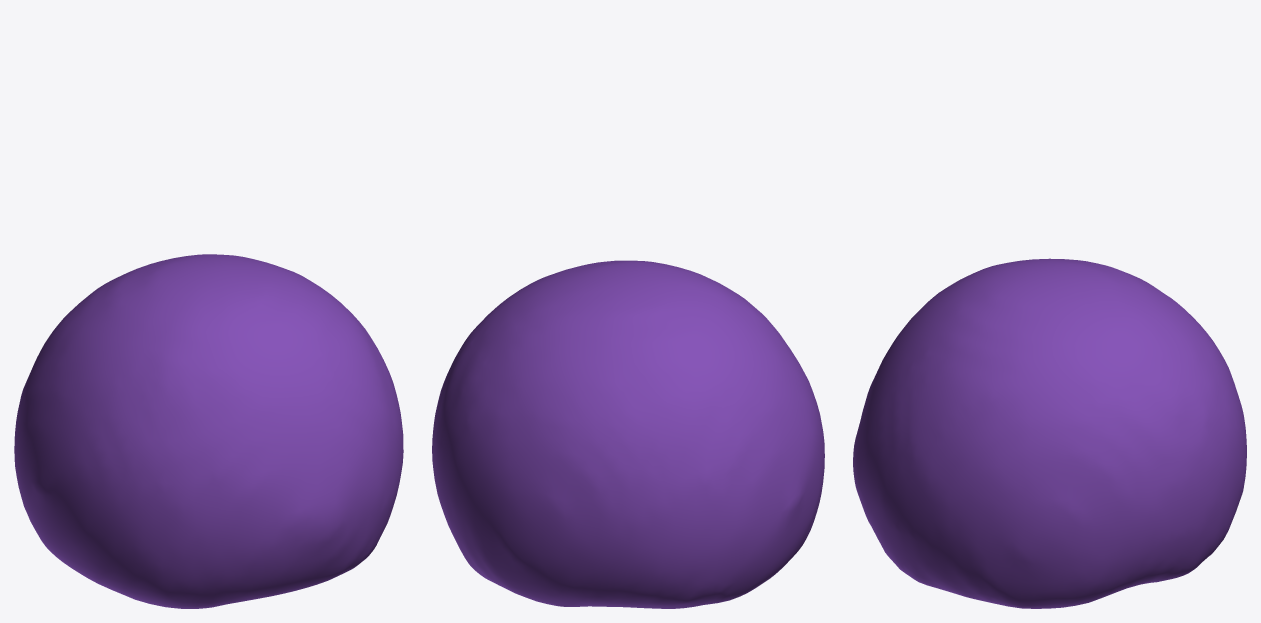
File: slime_0027.dae
3 renders of one model, left to right at view 1: azimuth 30°, elevation 25°; view 2: azimuth 150°, elevation 25°; view 3: azimuth 270°, elevation 25°, orthographic.
Parts seen in each view (by area): view 1: Slime; view 2: Slime; view 3: Slime.
Boxes of the visible parts, box(x1,y1,x2,y2) form: Slime: box(14, 254, 403, 608); Slime: box(432, 260, 824, 608); Slime: box(853, 258, 1246, 608).
Size of the model in its own units: 2.04 by 3.13 by 2.06.
